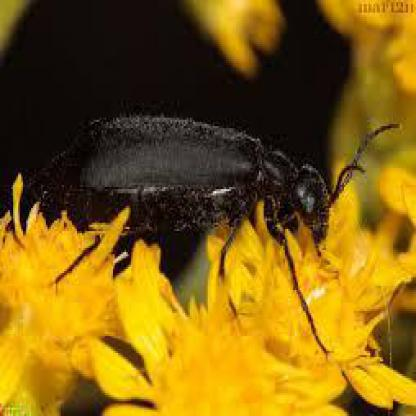blister beetle: (4, 114, 333, 253)
